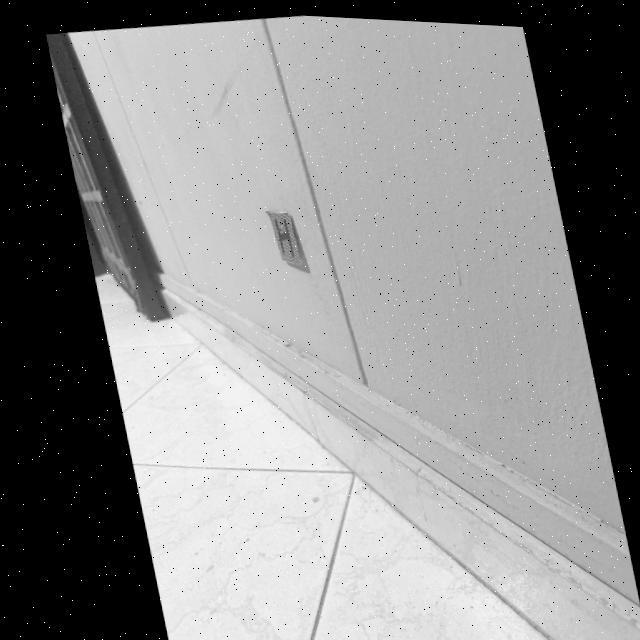H: (271, 216, 290, 253)
